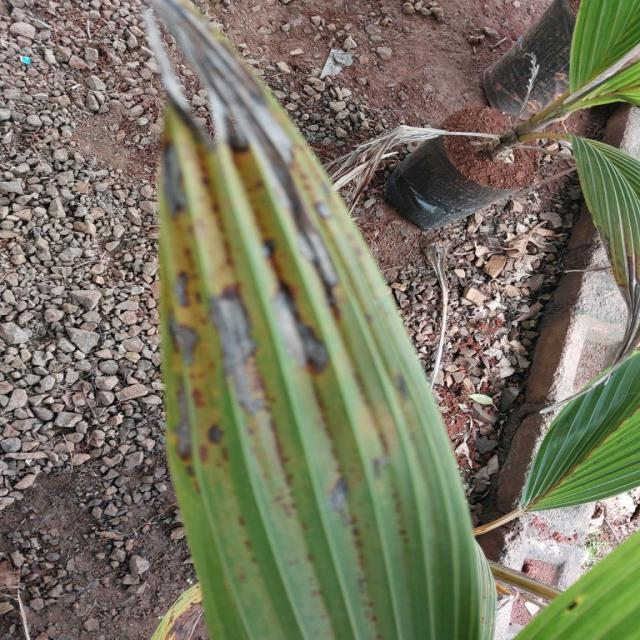gray leaf spot: (146, 0, 489, 636)
